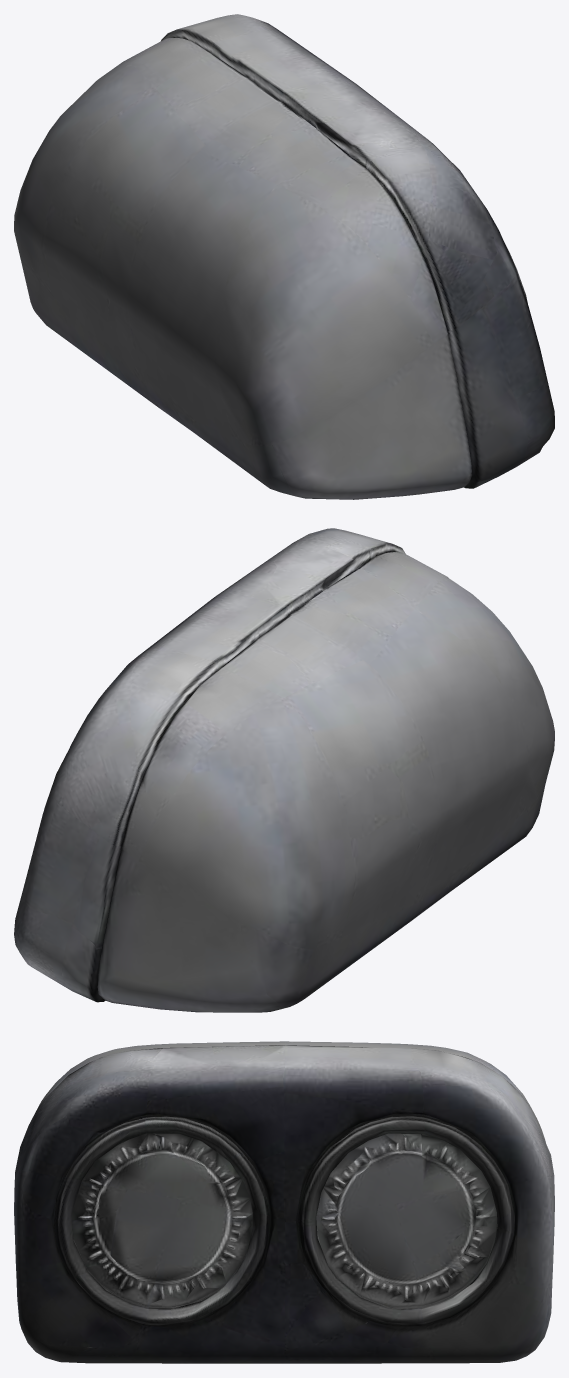
File: inclinometro.glb
3 views of the same model, one above another, from view 1: azimuth 30°, elevation 25°; view 2: azimuth 150°, elevation 25°; view 3: azimuth 270°, elevation 25° (orthographic). The views are drawn at different scales.
Parts seen in each view (by area): view 1: tripo_node_399d2c52-9fe2-4053-b45b-0e1c1f56dfd8; view 2: tripo_node_399d2c52-9fe2-4053-b45b-0e1c1f56dfd8; view 3: tripo_node_399d2c52-9fe2-4053-b45b-0e1c1f56dfd8.
Part boxes in pixels (x1,y1,x2,y2): tripo_node_399d2c52-9fe2-4053-b45b-0e1c1f56dfd8: (14,14,554,499); tripo_node_399d2c52-9fe2-4053-b45b-0e1c1f56dfd8: (14,528,554,1012); tripo_node_399d2c52-9fe2-4053-b45b-0e1c1f56dfd8: (14,1041,554,1363).
Size of the model in its own units: 0.5652 by 0.577 by 0.9986.
1 material, 1 textured.
